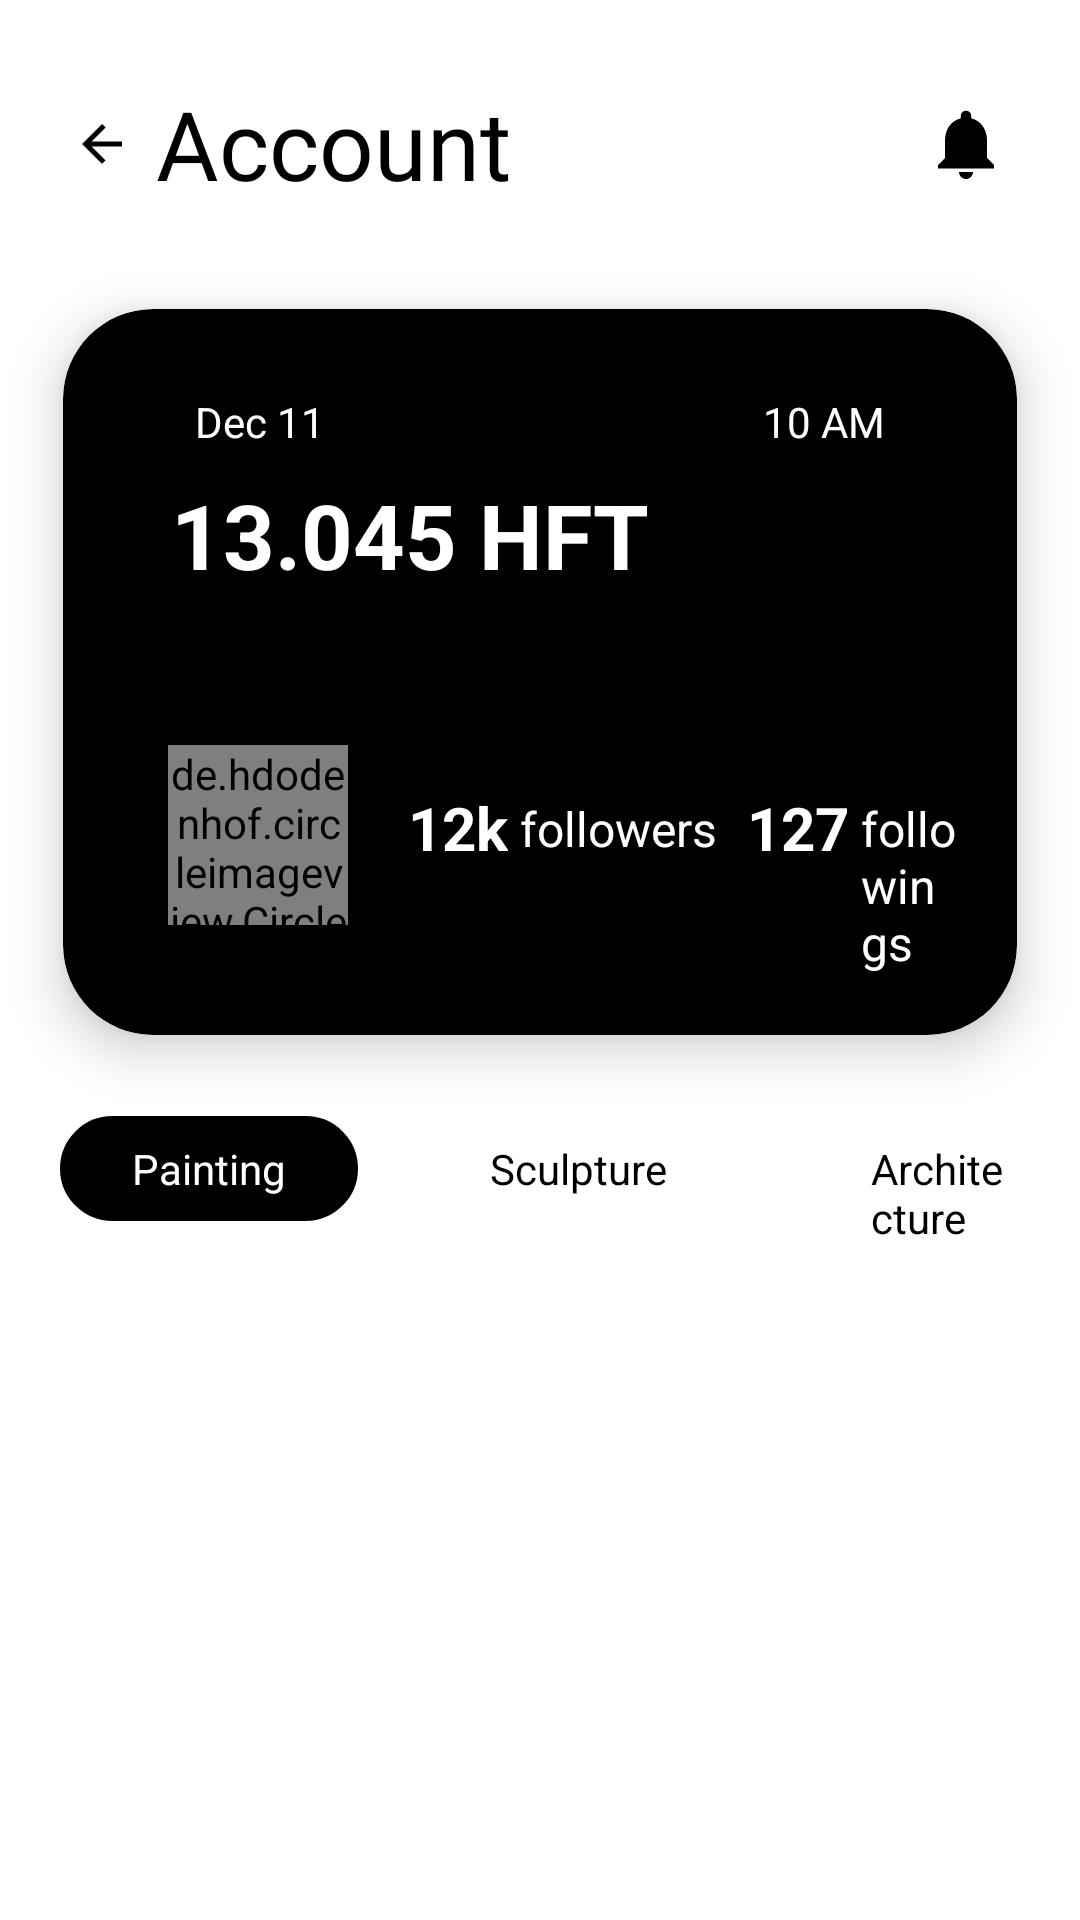

Where to tap for icons on this 1080 x 1920 app screen, as [x,y]:
arrow back: [102,144]
notifications: [966,144]
